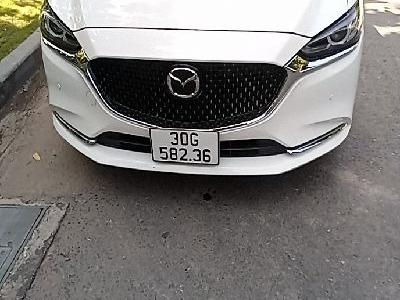lisence: (146, 124, 221, 166)
